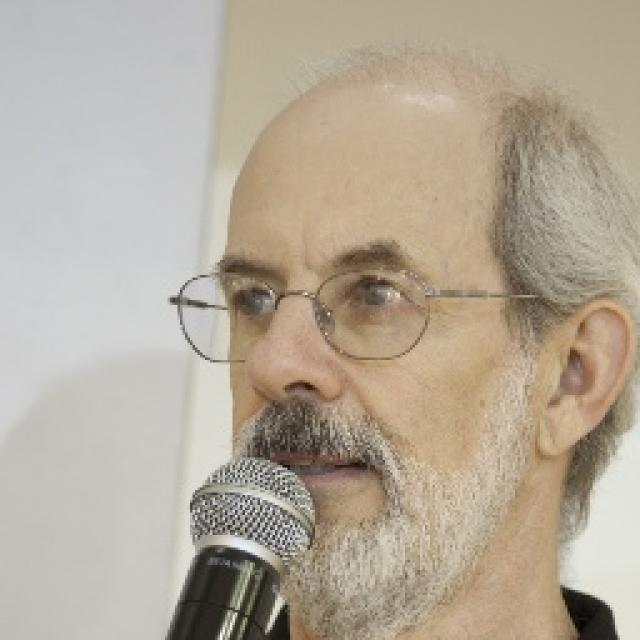earlobe: (536, 414, 581, 458)
eye: (342, 279, 416, 315), (228, 285, 276, 319)
nose: (252, 388, 344, 431)
wholeear: (537, 301, 636, 459)
